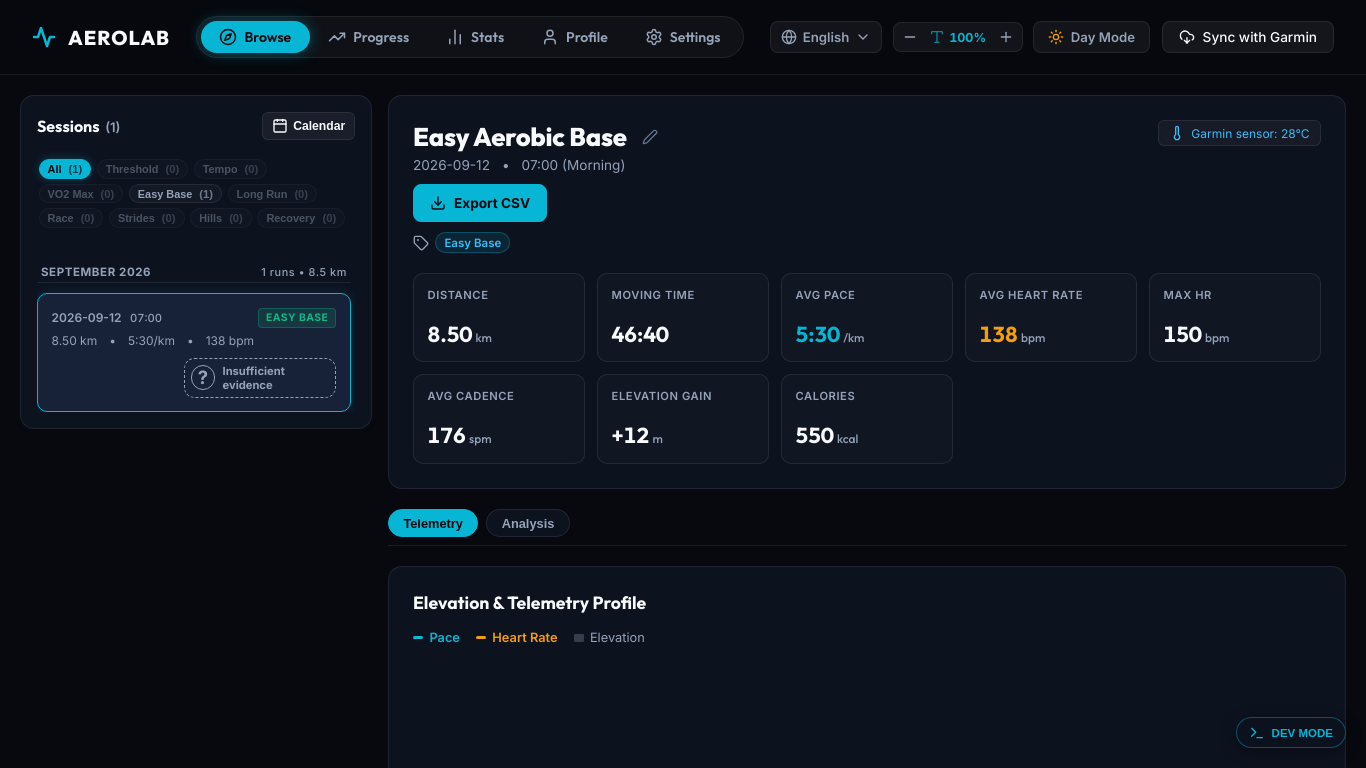
Test: AEROLAB App Full Integration Tests › persists Day Mode theme toggle to documentElement and localStorage
Check: the heading "Easy Aerobic Base" is shown, box [413,120,627,153]
Note: Toggle to Light / Day Mode
Click the button with id "theme-toggle-btn".
click(1091, 37)  # box [1033,21,1150,53]
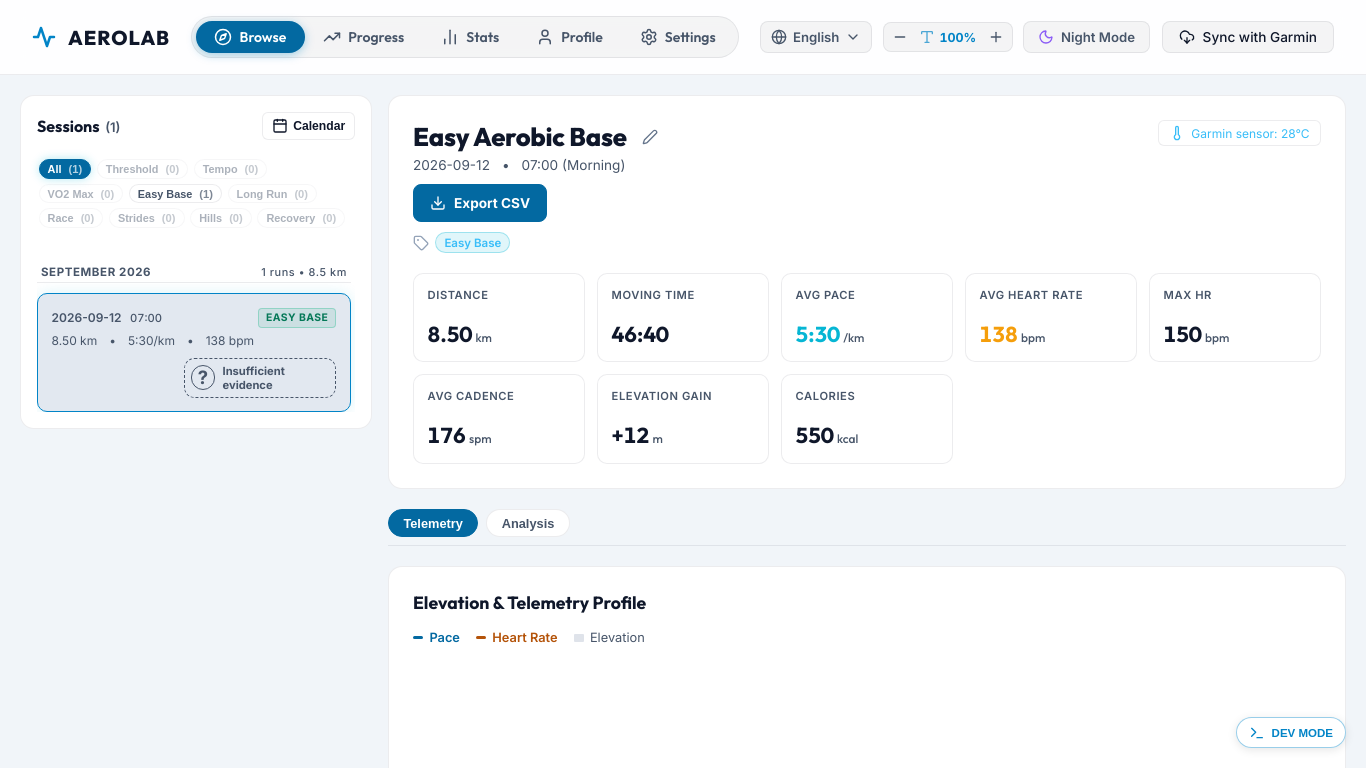
Check: the button with id "theme-toggle-btn" reads "Night Mode"
Note: Toggle back to Dark / Night Mode
Click the button with id "theme-toggle-btn".
click(1086, 37)  # box [1023,21,1150,53]
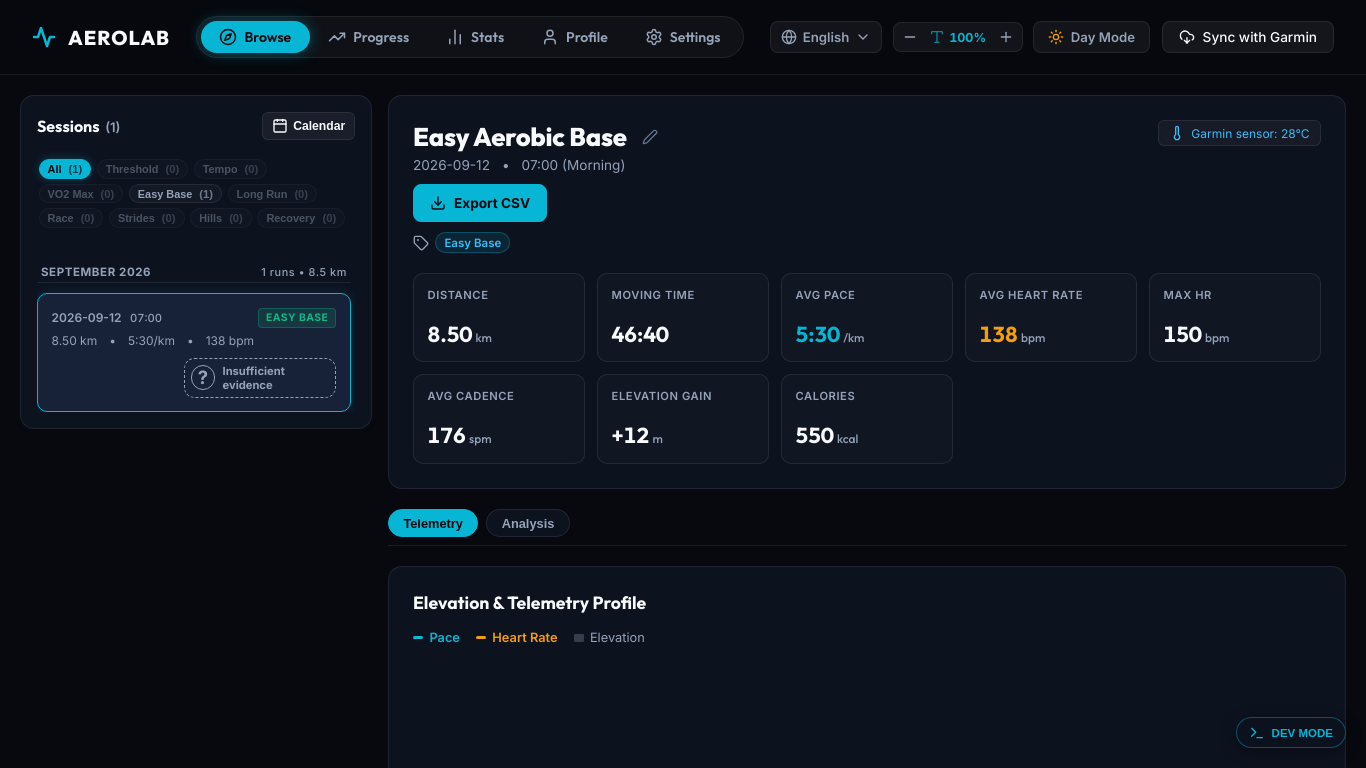
Check: the button with id "theme-toggle-btn" reads "Day Mode", box [1033,21,1150,53]
